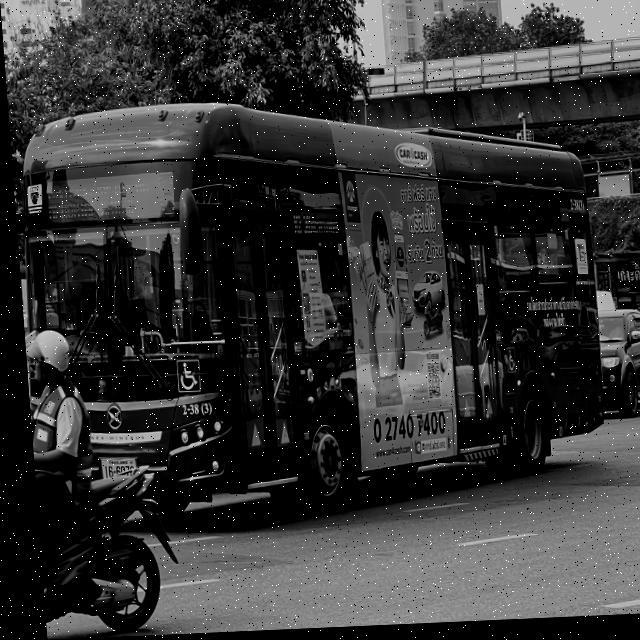Bus-Line-Number: (148, 167, 180, 223)
Destination-Sign-Normal: (38, 171, 154, 226)
TSB-Bus: (10, 91, 605, 529)
